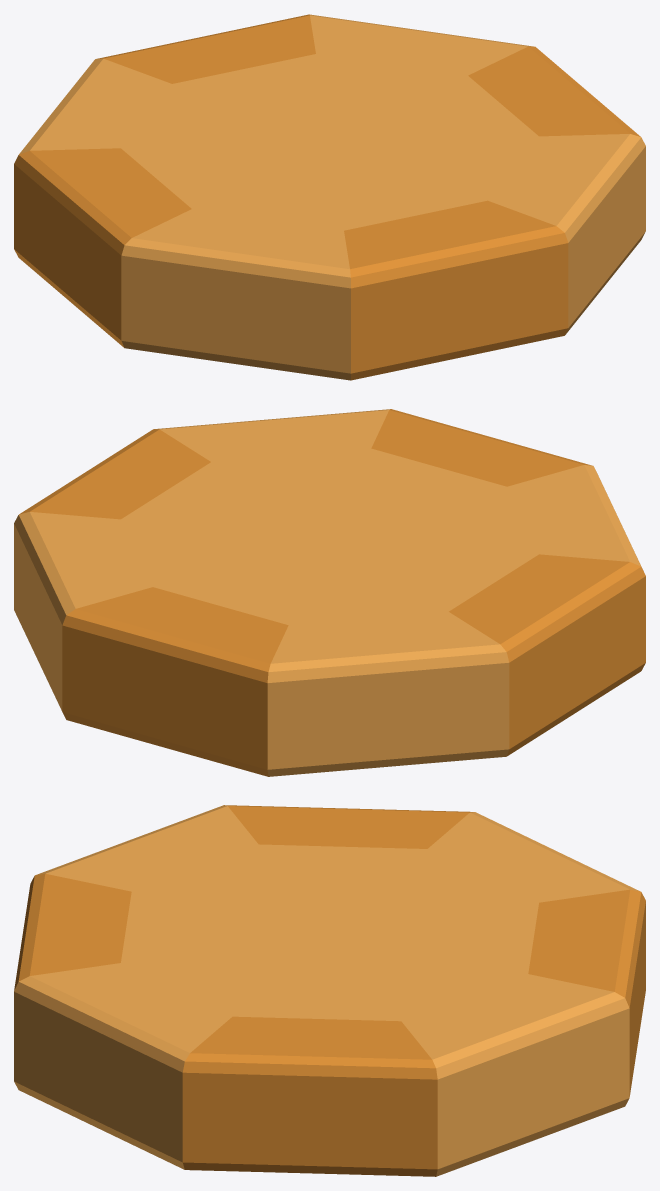
The model's file is Ficha.fbx.
3 renders of one model, top to bottom at view 1: azimuth 30°, elevation 25°; view 2: azimuth 150°, elevation 25°; view 3: azimuth 270°, elevation 25°, orthographic. The views are drawn at different scales.
Parts seen in each view (by area): view 1: Ficha; view 2: Ficha; view 3: Ficha.
Boxes of the visible parts, x1=… form: Ficha: x1=14, y1=14, x2=645, y2=380; Ficha: x1=14, y1=409, x2=645, y2=776; Ficha: x1=14, y1=805, x2=645, y2=1176.
Size of the model in its own units: 0.9472 by 0.1923 by 0.9472.
